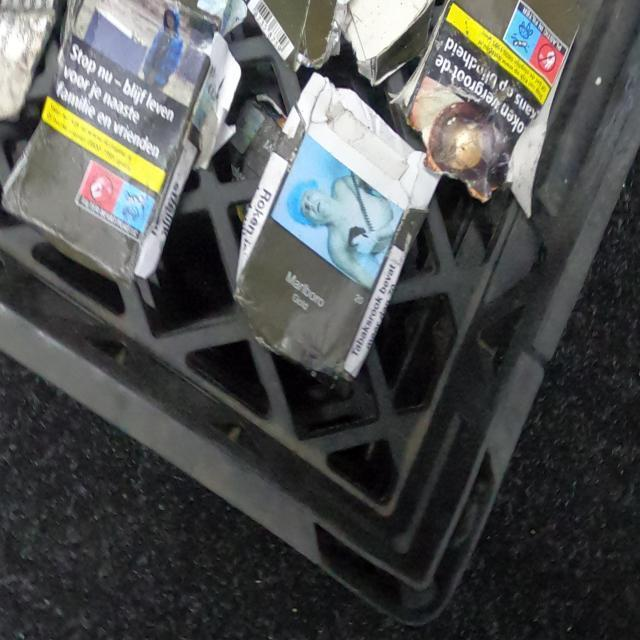Paper: (2, 0, 243, 288), (226, 72, 442, 388), (388, 1, 596, 222)
